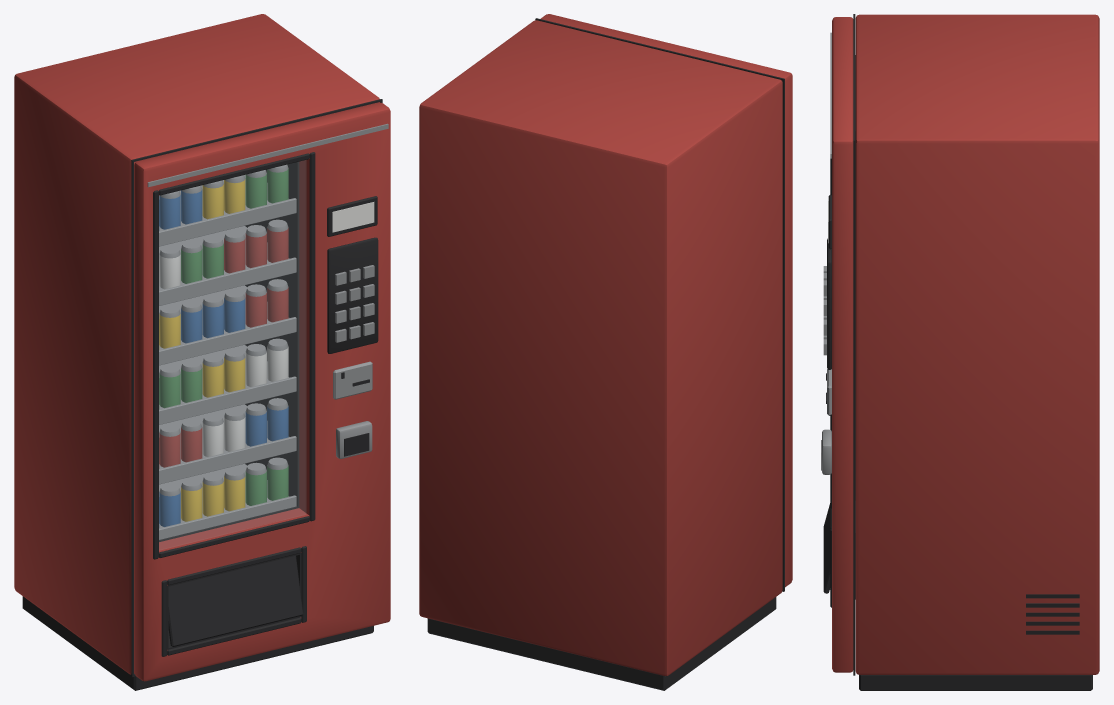
File: VendingMachine.fbx
3 renders of one model, left to right at view 1: azimuth 30°, elevation 25°; view 2: azimuth 150°, elevation 25°; view 3: azimuth 270°, elevation 25°, orthographic. The views are drawn at different scales.
Visible parts, largest first — view 1: VendingMachine_Mesh; view 2: VendingMachine_Mesh; view 3: VendingMachine_Mesh.
Part boxes in pixels (x1,y1,x2,y2): VendingMachine_Mesh: [14, 14, 390, 690]; VendingMachine_Mesh: [419, 14, 792, 690]; VendingMachine_Mesh: [821, 14, 1099, 690].
Bounding box in the file's own units: 0.905 × 1.83 × 0.832.
